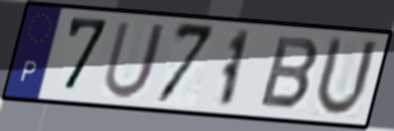1: (219, 27, 254, 111)
7: (152, 20, 219, 107), (63, 14, 111, 97)
B: (256, 33, 323, 112)
U: (311, 33, 381, 120), (100, 19, 170, 102)
